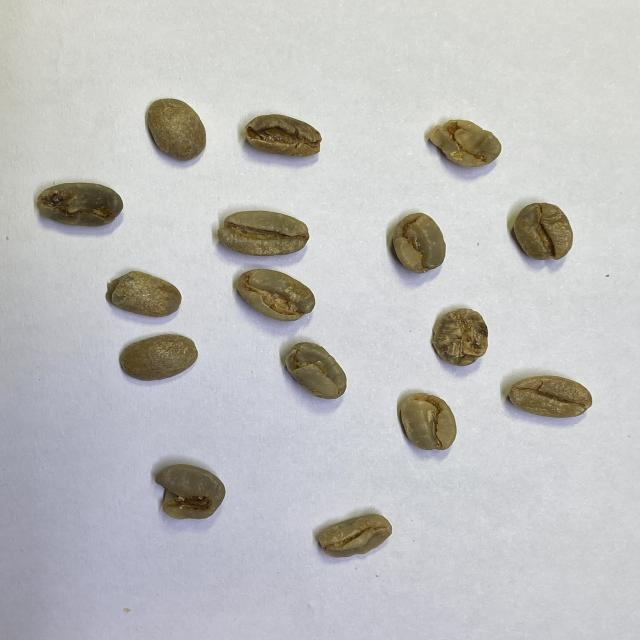bad: (235, 268, 316, 324), (37, 181, 126, 229), (154, 464, 228, 520), (104, 269, 184, 319), (389, 211, 448, 277), (427, 117, 503, 168), (244, 111, 323, 159), (508, 374, 594, 418), (284, 342, 348, 401), (432, 306, 490, 369), (399, 392, 460, 450), (316, 514, 394, 556)
good: (218, 208, 311, 258), (144, 96, 208, 164), (117, 332, 199, 382), (514, 202, 575, 262)
